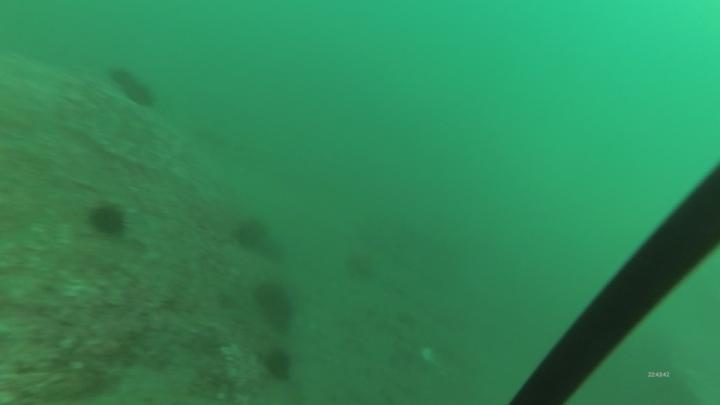echinus: (109, 64, 158, 112), (255, 280, 295, 334), (86, 200, 131, 243), (230, 214, 270, 254), (263, 346, 297, 386), (344, 250, 377, 282)
